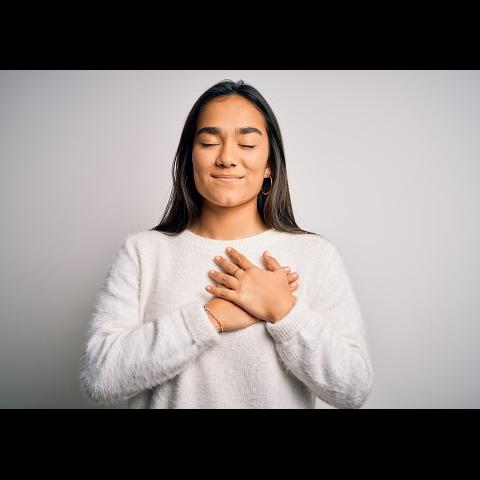closed: (193, 122, 262, 154)
